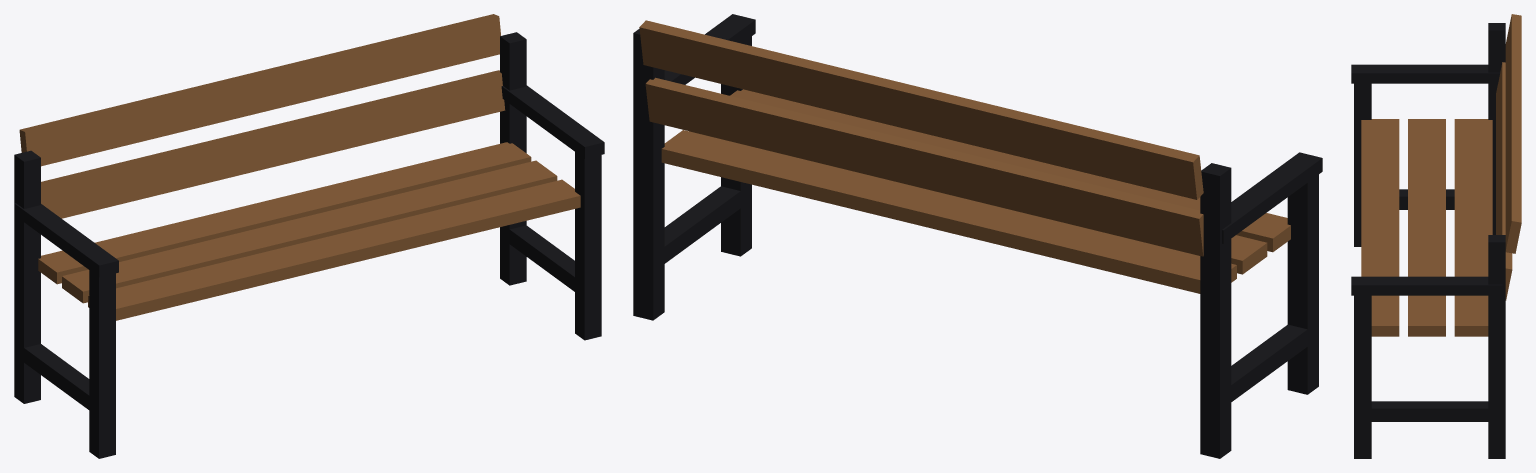
The model's file is prop_street-bench.8ac9bce36ad3.glb.
3 views of the same model, side by side, from view 1: azimuth 30°, elevation 25°; view 2: azimuth 150°, elevation 25°; view 3: azimuth 270°, elevation 25° (orthographic). The views are drawn at different scales.
Parts seen in each view (by area): view 1: body; view 2: body; view 3: body.
Part boxes in pixels (<box>): body: <box>14,14,604,458</box>; body: <box>633,14,1322,458</box>; body: <box>1351,14,1521,458</box>.
Size of the model in its own units: 1.79 by 0.877 by 0.5852.
